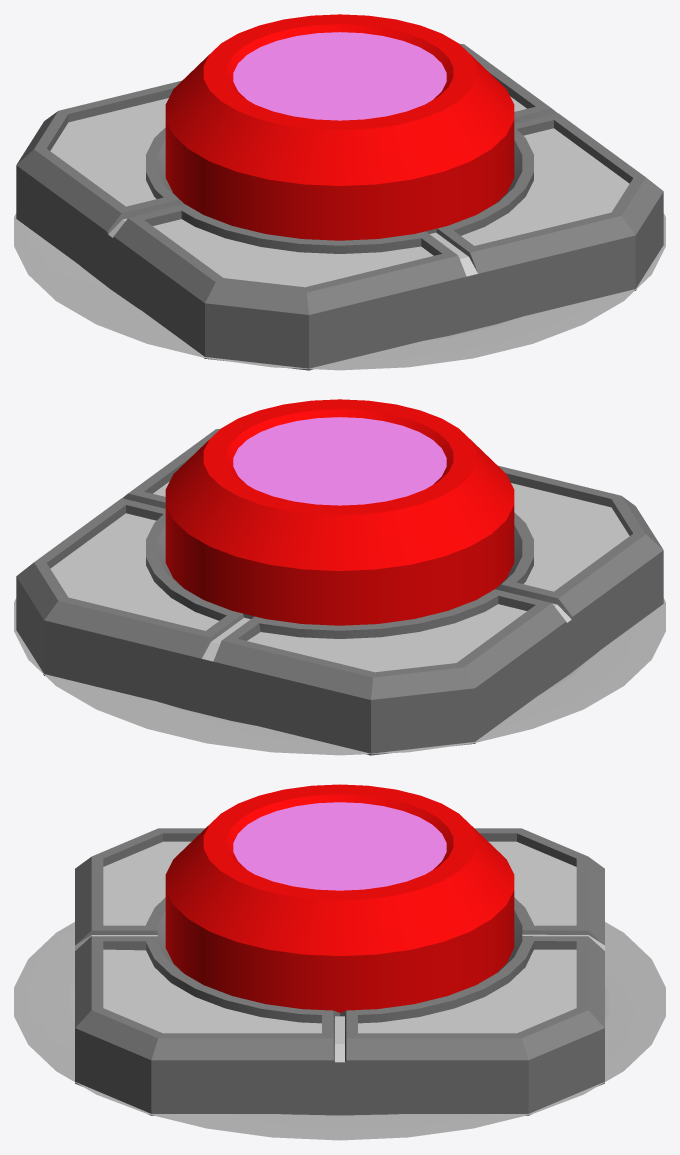
Rendered from BigRedButton.fbx.
3 renders of one model, top to bottom at view 1: azimuth 30°, elevation 25°; view 2: azimuth 150°, elevation 25°; view 3: azimuth 270°, elevation 25°, orthographic.
Parts seen in each view (by area): view 1: ButtonRing, Button, ButtonRingShadow; view 2: ButtonRing, Button, ButtonRingShadow; view 3: ButtonRing, Button, ButtonRingShadow.
Part boxes in pixels (box(x1,y1,x2,y2)): ButtonRing: box(16, 43, 663, 370); Button: box(165, 14, 514, 240); ButtonRingShadow: box(14, 213, 665, 370); ButtonRing: box(16, 428, 663, 755); Button: box(165, 399, 514, 625); ButtonRingShadow: box(14, 598, 665, 755); ButtonRing: box(75, 828, 604, 1115); Button: box(165, 784, 514, 1012); ButtonRingShadow: box(14, 922, 665, 1140).
Size of the model in its own units: 24.75 by 8.25 by 24.61.
